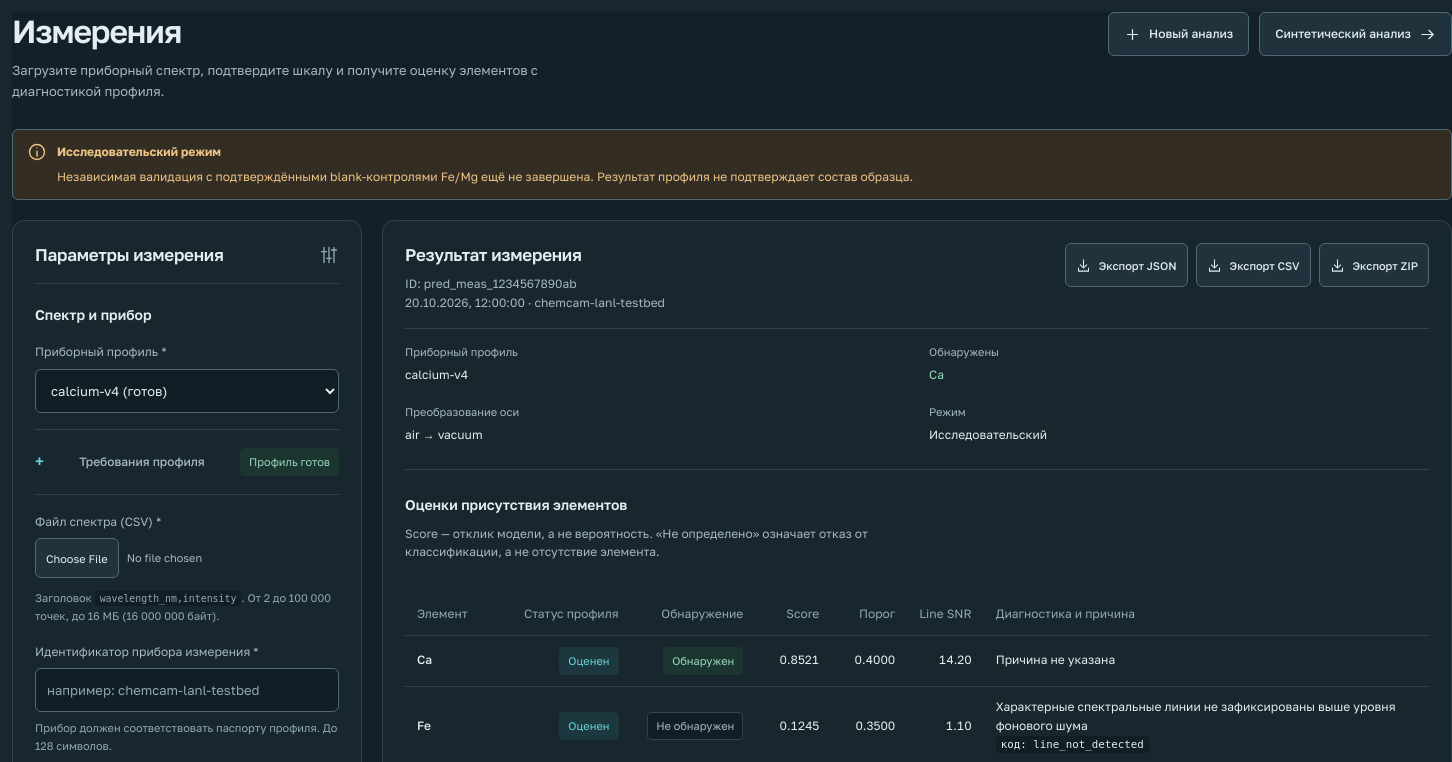
Measured provenance and asynchronous input safety › shows export failures without losing the saved result
Click the button "Экспорт ZIP": (1374, 266) left=1318, top=244, right=1429, bottom=288
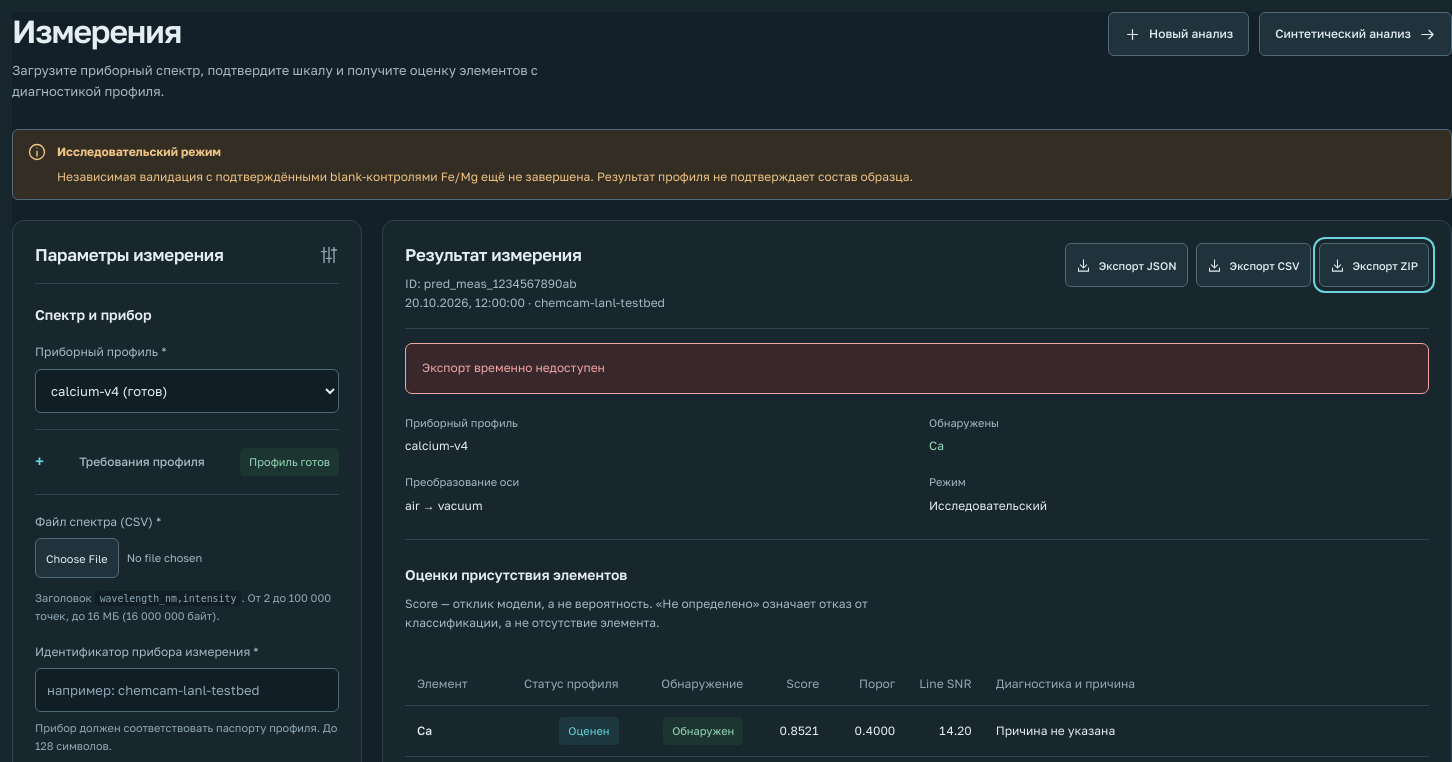
Check: the text "Экспорт временно недоступен" is shown, box left=405, top=343, right=1429, bottom=394
